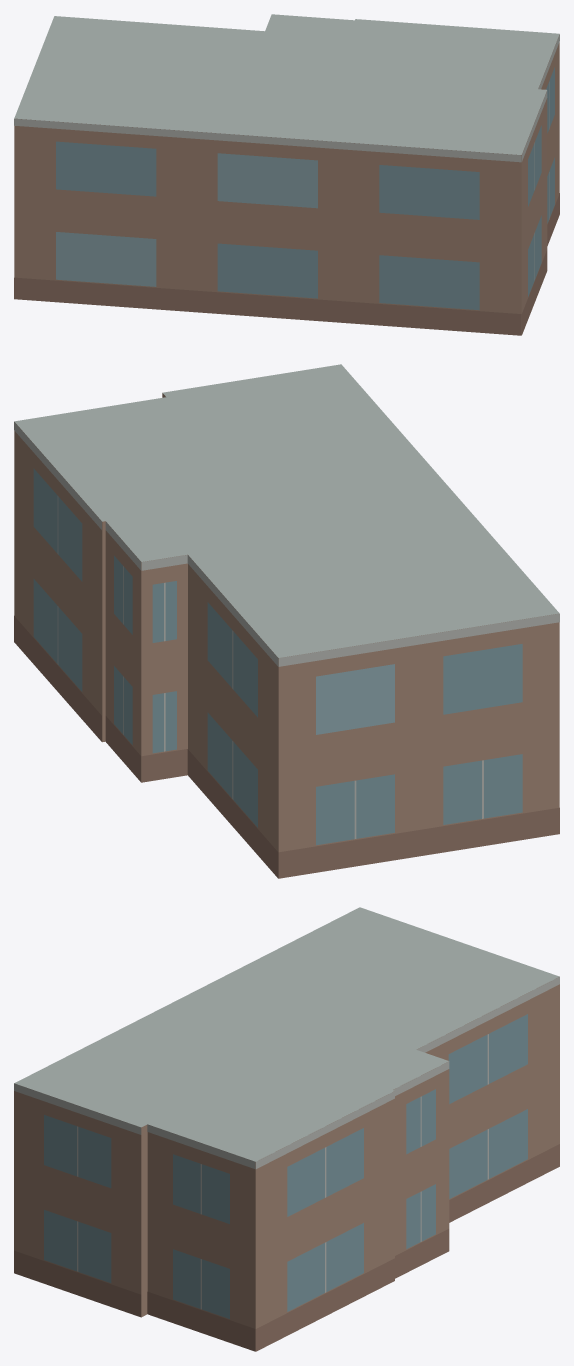
The model's file is survey-upis-32980790.glb.
3 renders of one model, top to bottom at view 1: azimuth 30°, elevation 25°; view 2: azimuth 150°, elevation 25°; view 3: azimuth 270°, elevation 25°, orthographic. The views are drawn at different scales.
Visible parts, largest first — view 1: survey-upis-32980790.tmp; view 2: survey-upis-32980790.tmp; view 3: survey-upis-32980790.tmp.
Part boxes in pixels (<box>): survey-upis-32980790.tmp: <box>14,14,559,335</box>; survey-upis-32980790.tmp: <box>14,364,559,878</box>; survey-upis-32980790.tmp: <box>14,907,559,1351</box>.
Bounding box in the file's own units: 17.55 × 6.1 × 15.89.
